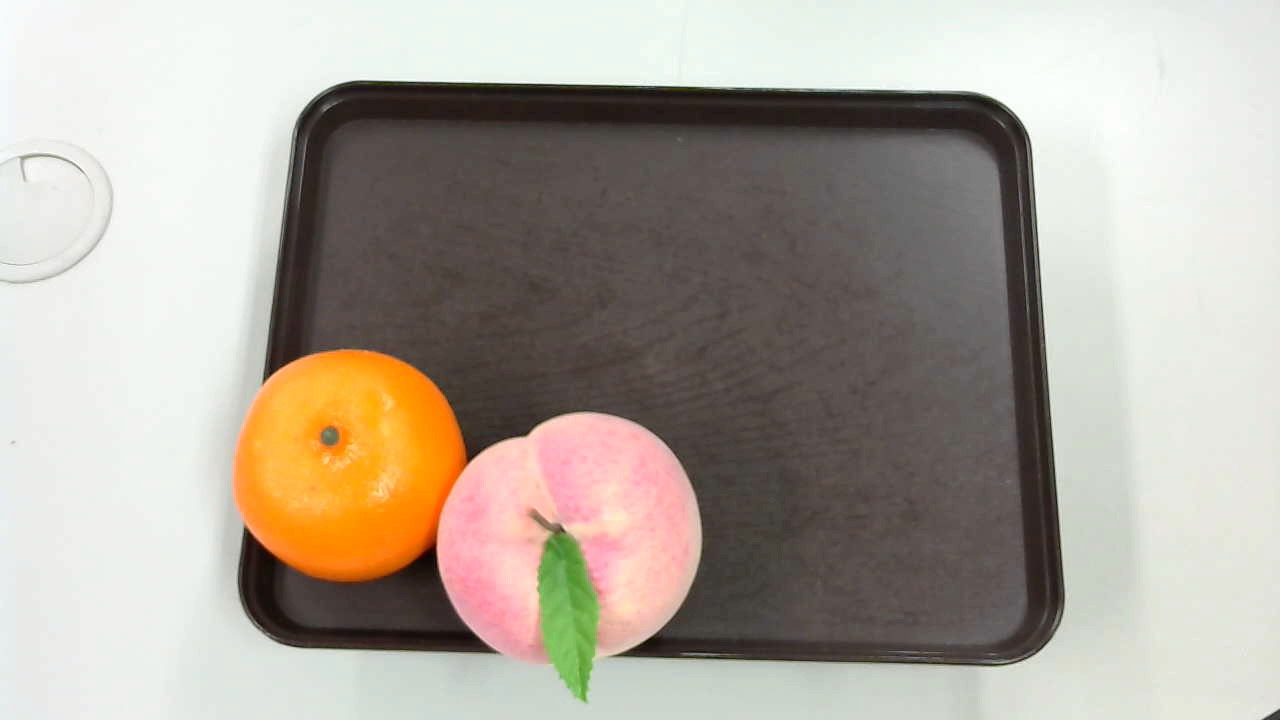orange: (231, 349, 475, 595)
peach: (437, 411, 702, 700)
